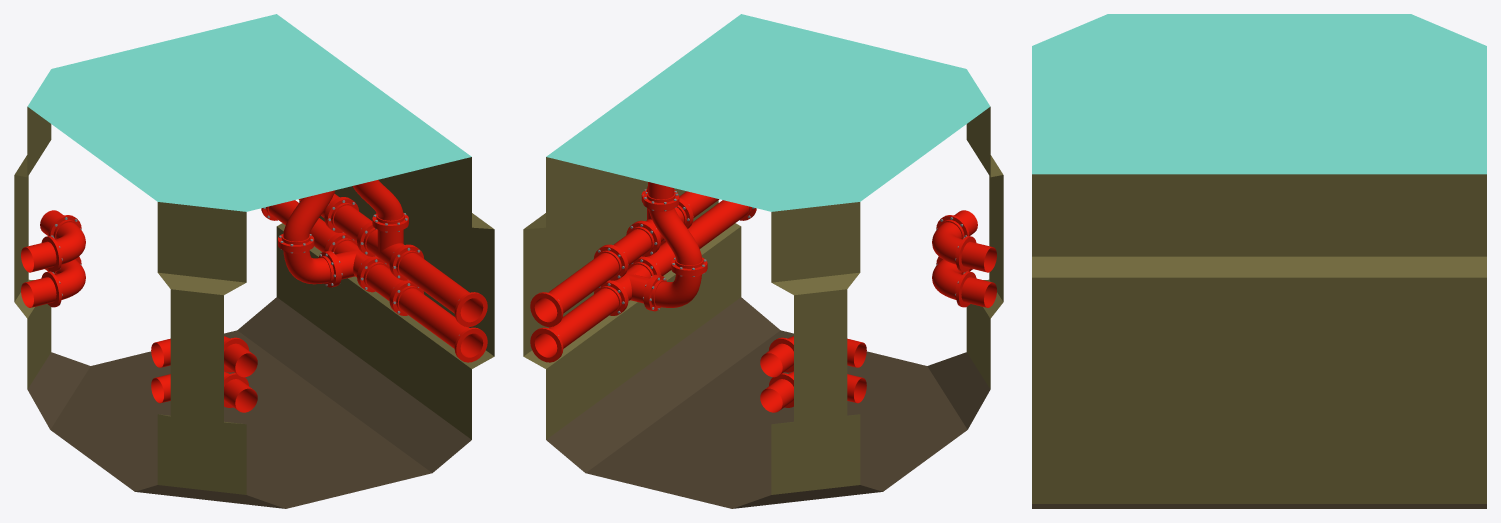
The model's file is T_Junction_.fbx.
The picture shows the model from 3 angles, left to right: view 1: azimuth 30°, elevation 25°; view 2: azimuth 150°, elevation 25°; view 3: azimuth 270°, elevation 25°; orthographic projection. The views are drawn at different scales.
Visible parts, largest first — view 1: T_Junction_, Pipe_200_Straight_2m.015, Pipe_200_Straight_2m.013, Pipe_200_Corner.004, Pipe_200_Corner.006, Pipe_200_Swerve_1m.003, Pipe_200_Corner.012, Pipe_200_Corner.005, Pipe_200_Corner.007, Pipe_200_Swerve_1m.002, Pipe_200_T.005, Pipe_200_Straight_0.5m.002 (+3 smaller); view 2: T_Junction_, Pipe_200_Straight_2m.016, Pipe_200_Straight_2m.014, Pipe_200_Corner.005, Pipe_200_Swerve_1m.003, Pipe_200_Corner.007, Pipe_200_Corner.012, Pipe_200_Straight_2m.013, Pipe_200_Corner.004, Pipe_200_Corner.006, Pipe_200_Straight_0.5m.002, Pipe_200_T.006 (+3 smaller); view 3: T_Junction_.
Boxes of the visible parts, box(x1,y1,x2,y2) form: T_Junction_: box(14, 14, 494, 508); Pipe_200_Straight_2m.015: box(391, 245, 487, 326); Pipe_200_Straight_2m.013: box(391, 281, 487, 362); Pipe_200_Corner.004: box(21, 210, 85, 272); Pipe_200_Corner.006: box(21, 256, 85, 307); Pipe_200_Swerve_1m.003: box(278, 190, 335, 249); Pipe_200_Corner.012: box(278, 243, 338, 287); Pipe_200_Corner.005: box(151, 336, 257, 377); Pipe_200_Corner.007: box(151, 371, 257, 412); Pipe_200_Swerve_1m.002: box(352, 180, 408, 228); Pipe_200_T.005: box(358, 221, 416, 276); Pipe_200_Straight_0.5m.002: box(326, 198, 372, 252); T_Junction_: box(523, 14, 1003, 508); Pipe_200_Straight_2m.016: box(530, 245, 626, 326); Pipe_200_Straight_2m.014: box(530, 281, 626, 362); Pipe_200_Corner.005: box(932, 210, 996, 272); Pipe_200_Swerve_1m.003: box(643, 201, 707, 273); Pipe_200_Corner.007: box(932, 256, 996, 307); Pipe_200_Corner.012: box(646, 266, 707, 311); Pipe_200_Straight_2m.013: box(688, 200, 756, 248); Pipe_200_Corner.004: box(760, 336, 866, 377); Pipe_200_Corner.006: box(760, 371, 866, 412); Pipe_200_Straight_0.5m.002: box(601, 222, 659, 276); Pipe_200_T.006: box(608, 257, 658, 311); T_Junction_: box(1032, 14, 1486, 508).
Size of the model in its own units: 2.7 by 2.6 by 3.
